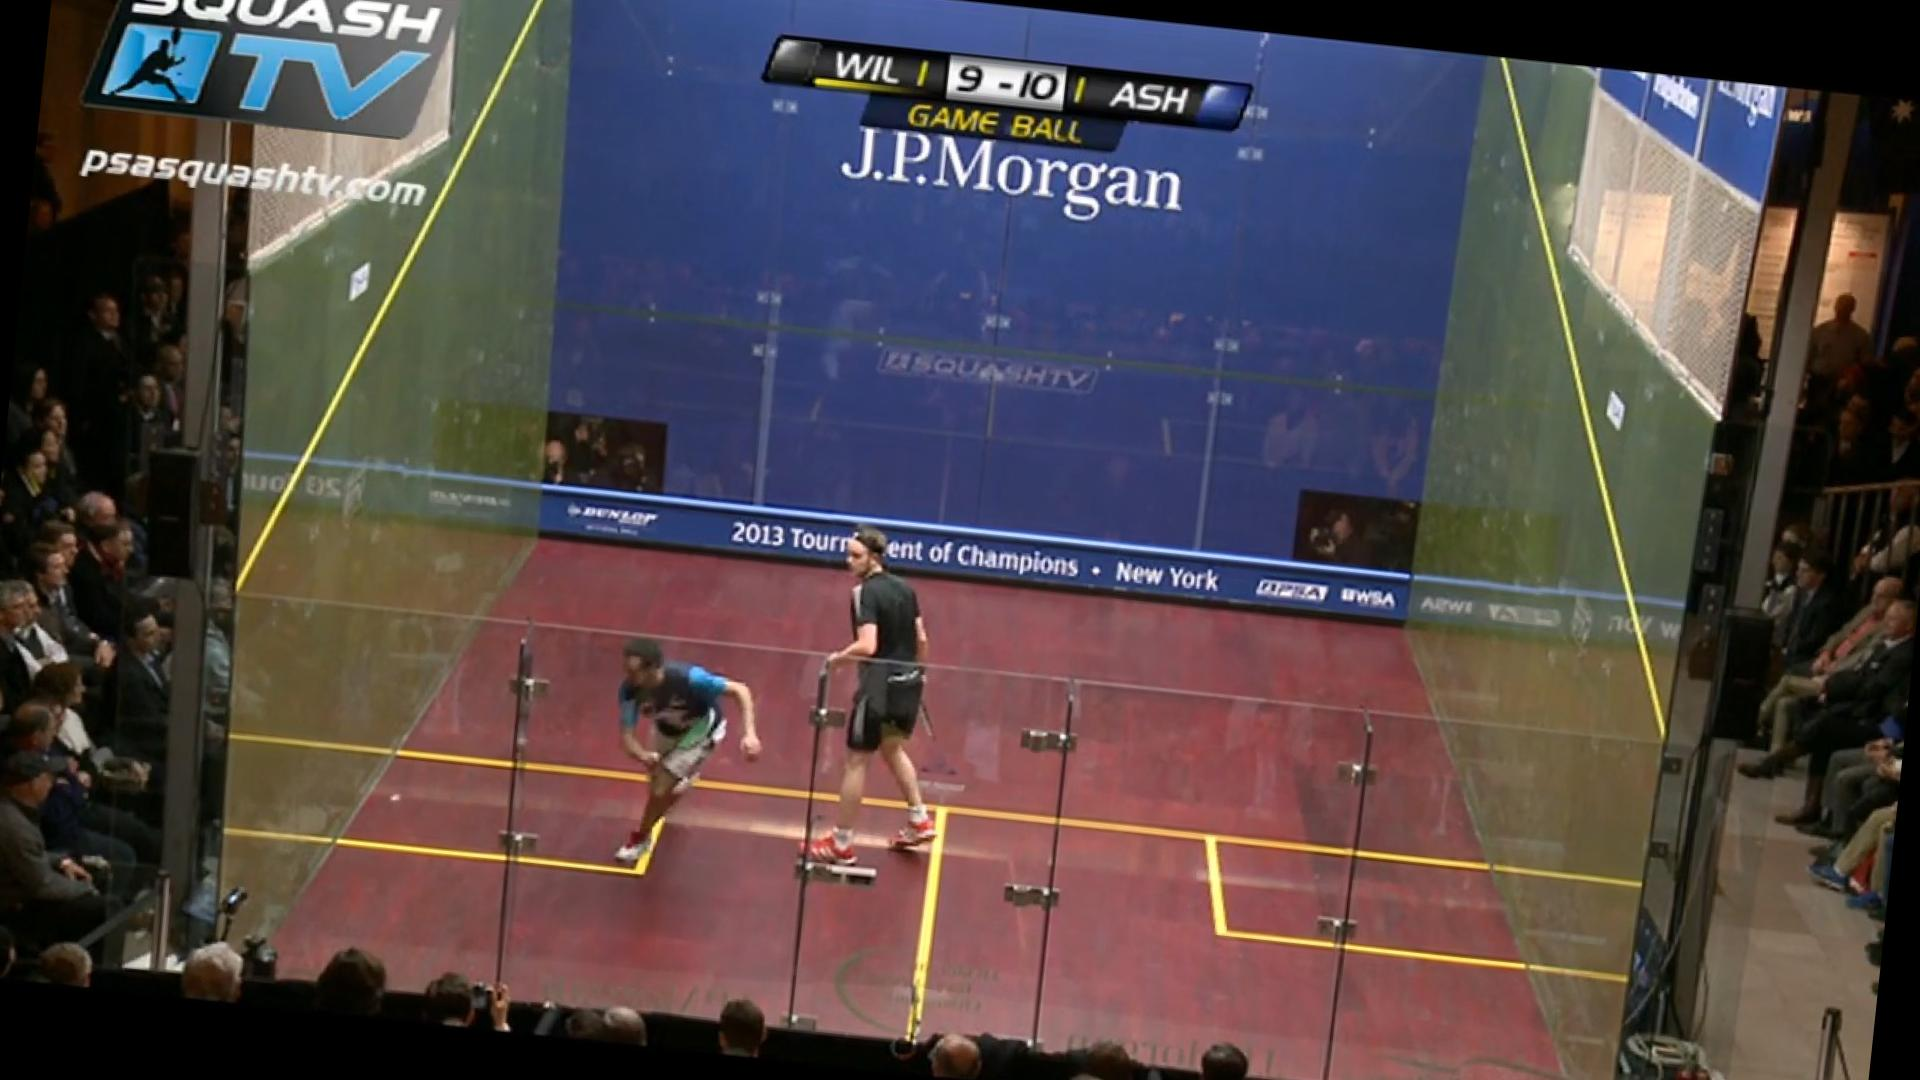Squash-Ball: (380, 782, 429, 818)
